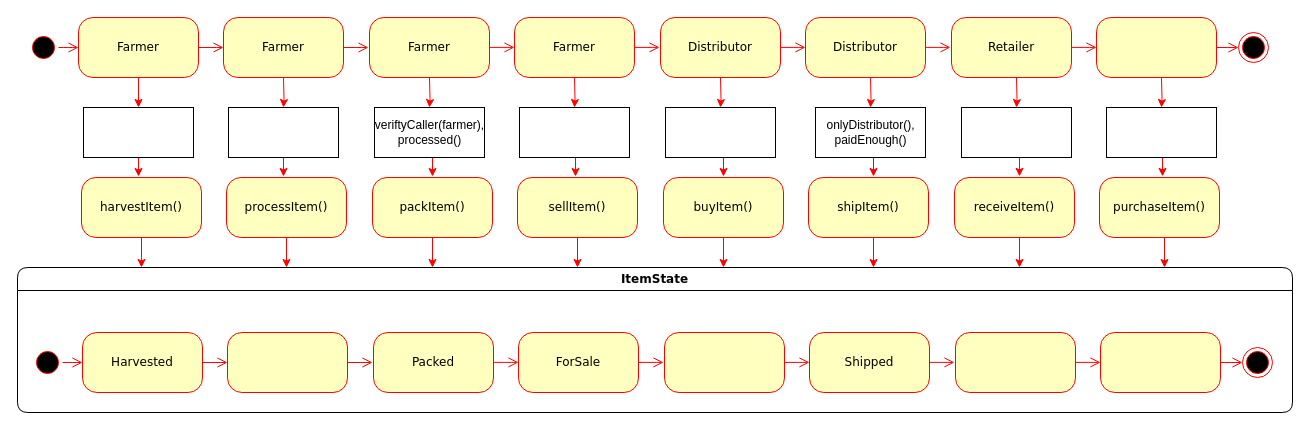
Image size: 1310x430. Some labels were removed from this diagram. The shapes that lost their labels are listed below. From the top down, each one's centre as x and y in pixels, then its label:
At [1156,47]: "Consumer".
At [138,132]: "addFarmer()".
At [283,132]: "verififyCaller(farmer), harvested()".
At [574,132]: "verifyCaller(Farmer), packed()".
At [720,132]: "onlyDistributor(), forSale()".
At [1016,132]: "onlyDistributor(), sold()".
At [1161,132]: "onlyRetailer(), shipped(), received()".
At [287,362]: "Processed".
At [724,362]: "Sold".
At [1015,362]: "Received".
At [1160,362]: "Purchased".
